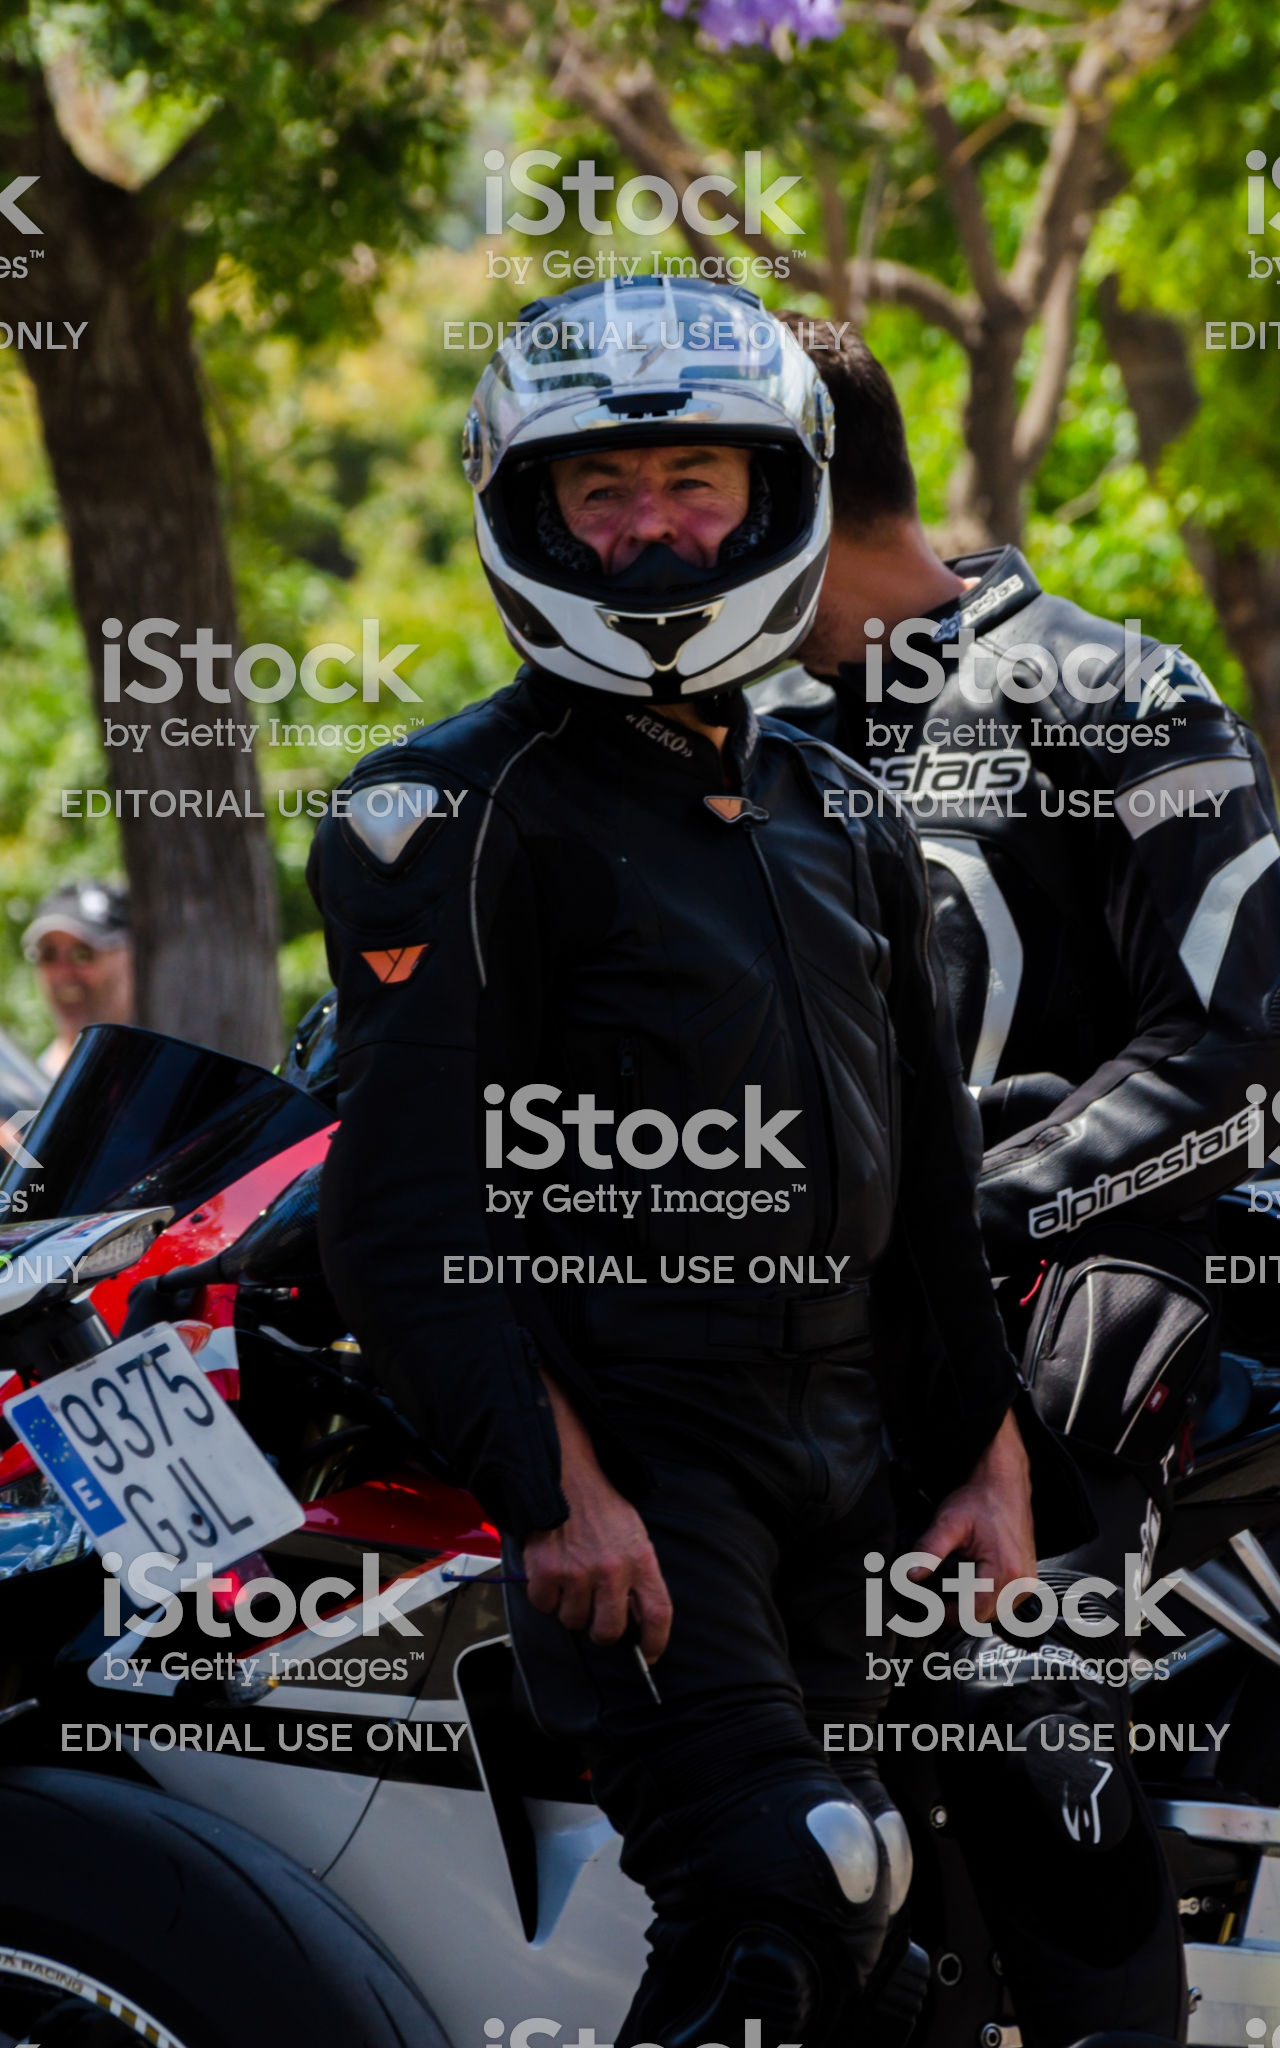helmet: (436, 296, 877, 731)
